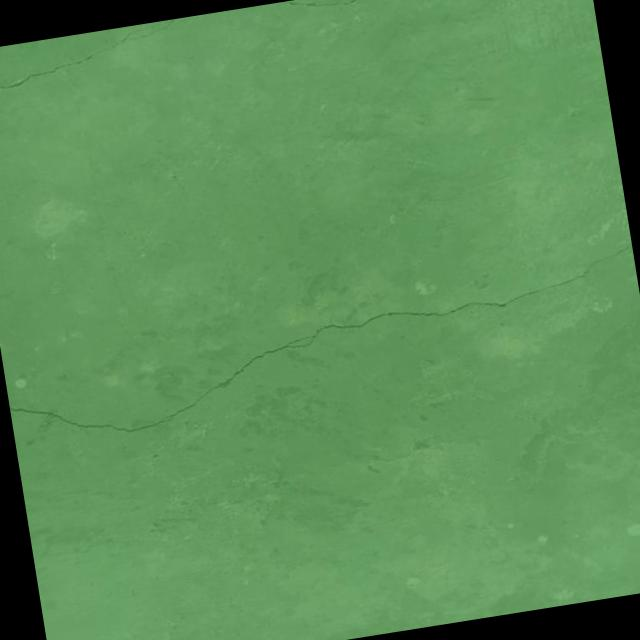crack: (0, 240, 640, 450), (0, 19, 185, 118), (288, 0, 362, 13)
